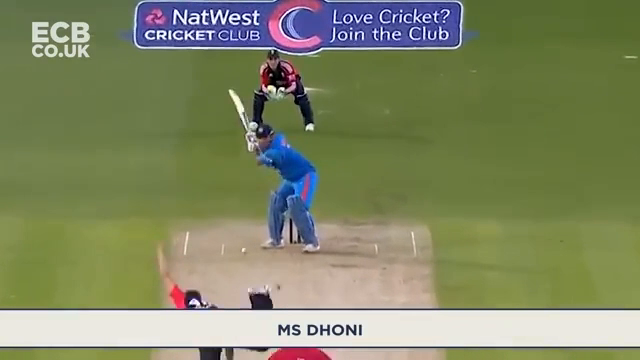Keeper: (253, 47, 320, 130)
batsman: (246, 127, 320, 251)
